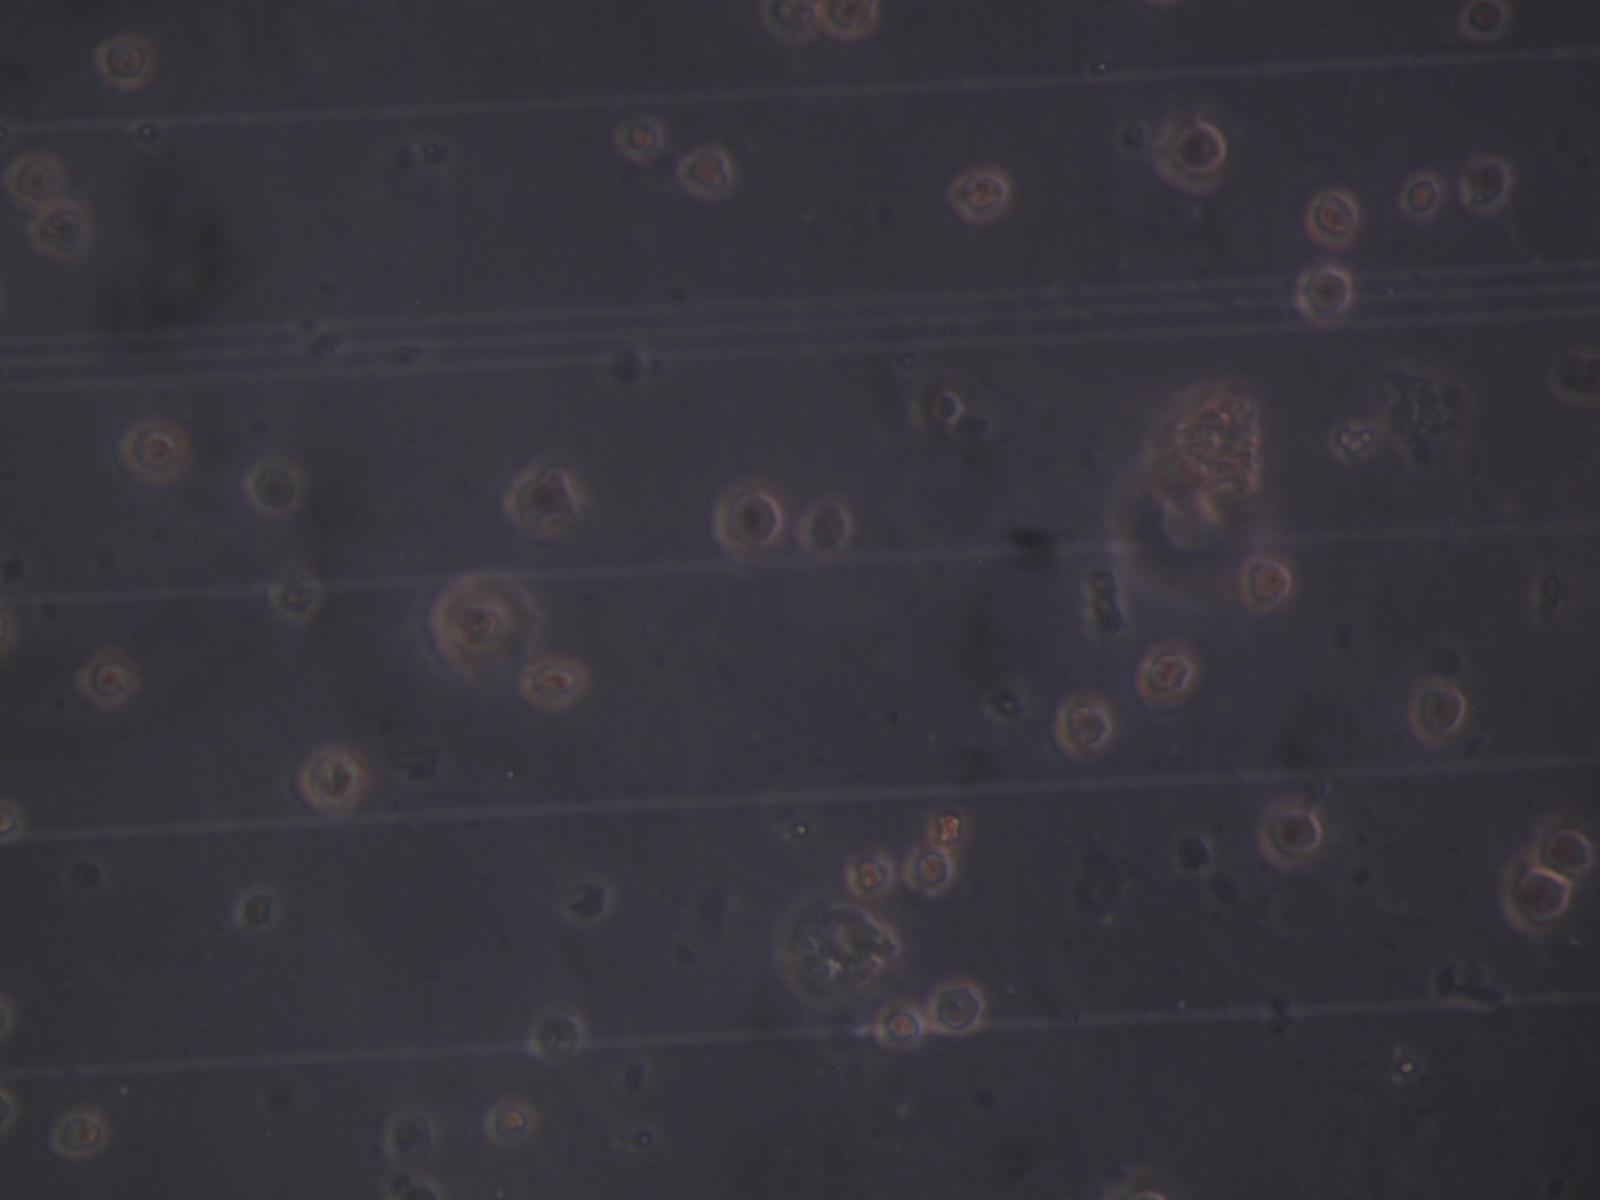hemo: (1497, 852, 1577, 940), (1151, 107, 1226, 195), (506, 459, 585, 536), (711, 480, 785, 556), (116, 420, 197, 485), (297, 745, 370, 817), (432, 582, 506, 652), (1255, 800, 1324, 871), (1054, 695, 1115, 764), (1136, 639, 1197, 708), (1529, 816, 1596, 877), (1304, 187, 1364, 250), (244, 455, 307, 516), (29, 204, 89, 266), (527, 1002, 586, 1065), (3, 153, 72, 205), (1293, 262, 1354, 321), (1407, 676, 1464, 740), (380, 1105, 441, 1165), (96, 32, 157, 89), (519, 659, 586, 712), (950, 164, 1012, 221), (1459, 154, 1514, 216), (71, 654, 137, 705), (929, 979, 985, 1037), (480, 1092, 539, 1147), (50, 1111, 111, 1162), (267, 568, 325, 621), (1241, 560, 1294, 615), (905, 379, 963, 430), (677, 147, 732, 199), (874, 1000, 927, 1053), (803, 500, 854, 555), (232, 882, 283, 937), (614, 110, 666, 161), (902, 845, 955, 896), (814, 1, 881, 40), (842, 850, 896, 896), (758, 1, 820, 40), (1400, 174, 1446, 221), (1459, 1, 1509, 42)
